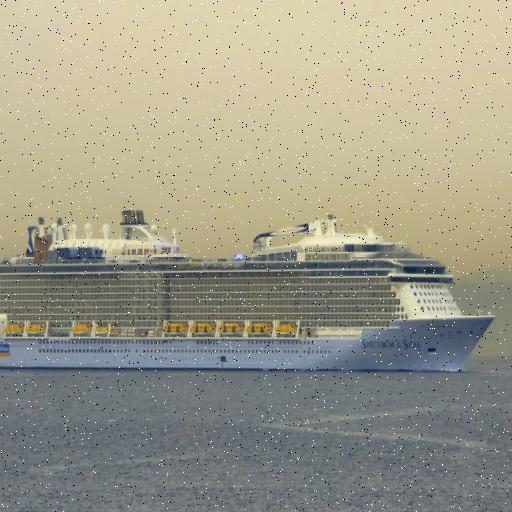cruises: (1, 204, 498, 382)
